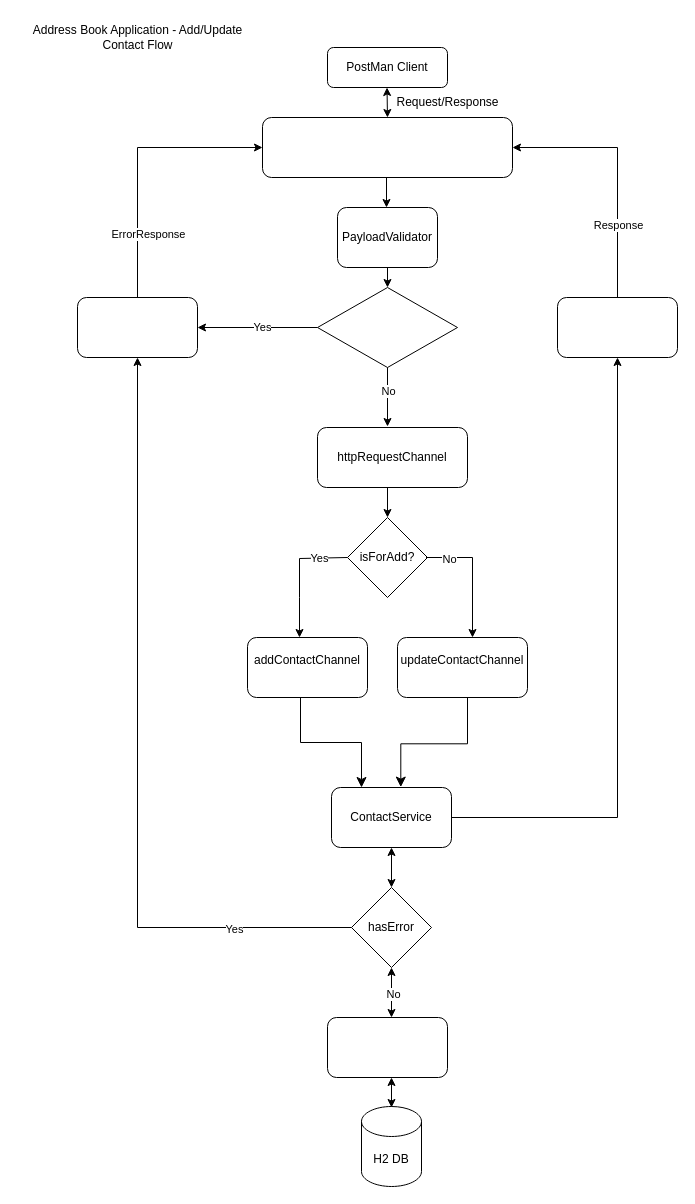
Some shapes in this 695 by 1204 pixel diagram are drawn without their labels. The centre of each missing label's shape, as x and y in pixels:
"ContactRepository" belongs at pixel 387 1047.
"gatewayForAddAndUpdateContact" belongs at pixel 387 147.
"hasError?" belongs at pixel 387 327.
"httpErrorChannel" belongs at pixel 137 327.
"httpReplyChannel" belongs at pixel 617 327.
